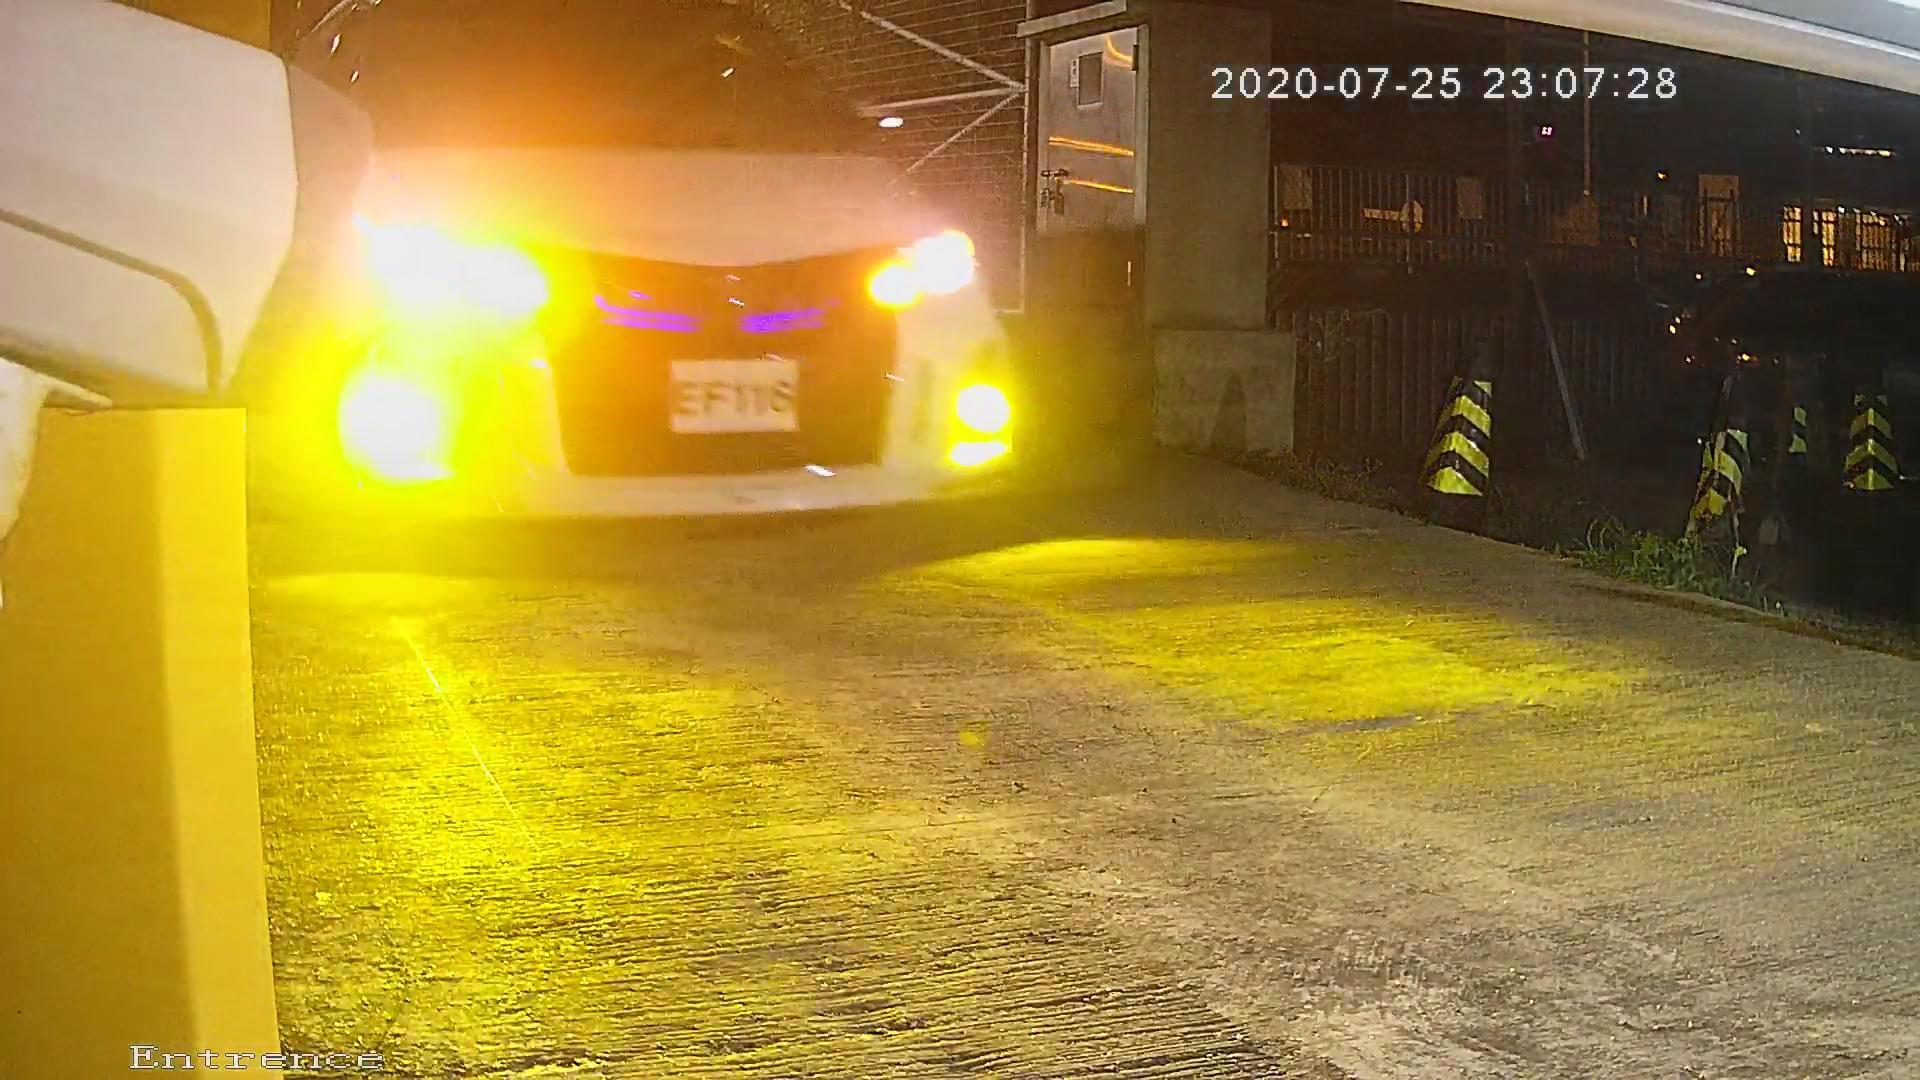privatecar: (236, 3, 1077, 595)
